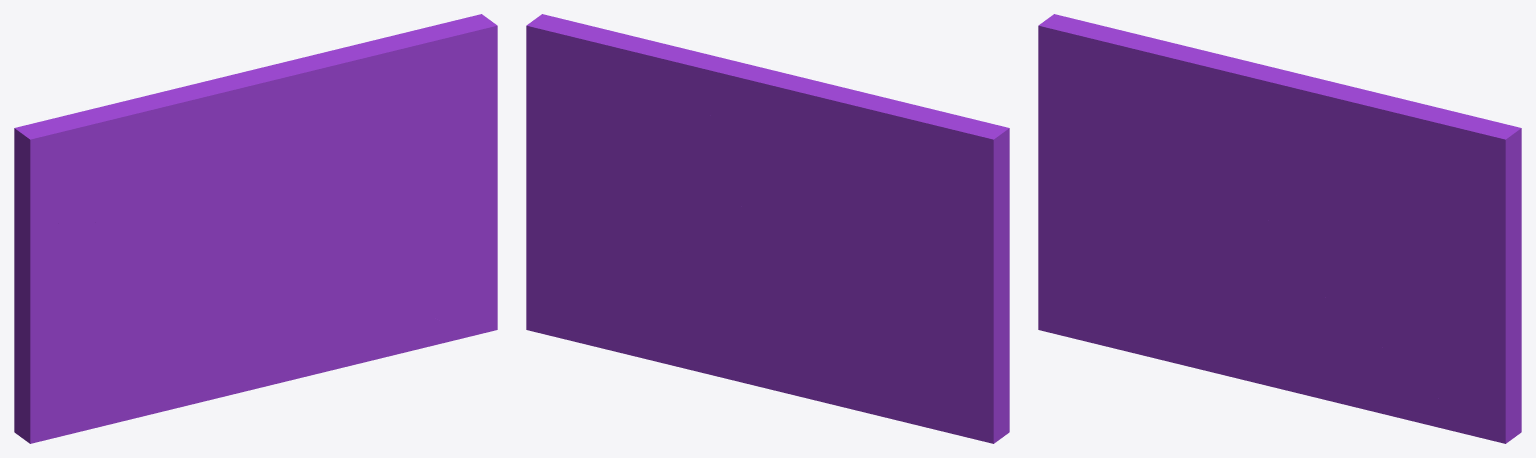
File: Barrier_125_chunks.fbx
3 renders of one model, left to right at view 1: azimuth 30°, elevation 25°; view 2: azimuth 150°, elevation 25°; view 3: azimuth 330°, elevation 25°, orthographic.
Parts seen in each view (by area): view 1: Barrier_125_2, Barrier_125_1, Barrier_125_0, Barrier_125_3, Barrier_125_5, Barrier_125_4; view 2: Barrier_125_2, Barrier_125_0, Barrier_125_1, Barrier_125_3, Barrier_125_4, Barrier_125_6; view 3: Barrier_125_2, Barrier_125_1, Barrier_125_0, Barrier_125_3, Barrier_125_5, Barrier_125_4.
Part boxes in pixels (x1,y1,x2,y2): Barrier_125_2: (259,14,497,334); Barrier_125_1: (14,219,275,443); Barrier_125_0: (14,55,313,242); Barrier_125_3: (217,254,335,398); Barrier_125_5: (326,282,475,346); Barrier_125_4: (304,342,427,376); Barrier_125_2: (526,14,746,312); Barrier_125_0: (695,60,1009,254); Barrier_125_1: (786,212,1009,443); Barrier_125_3: (687,225,850,408); Barrier_125_4: (526,295,733,380); Barrier_125_6: (571,233,725,307); Barrier_125_2: (1267,87,1521,443); Barrier_125_1: (1038,110,1283,375); Barrier_125_0: (1038,14,1352,216); Barrier_125_3: (1225,260,1343,396); Barrier_125_5: (1334,318,1483,438); Barrier_125_4: (1312,373,1521,438).
Size of the model in its own units: 462 by 288 by 27.2.
